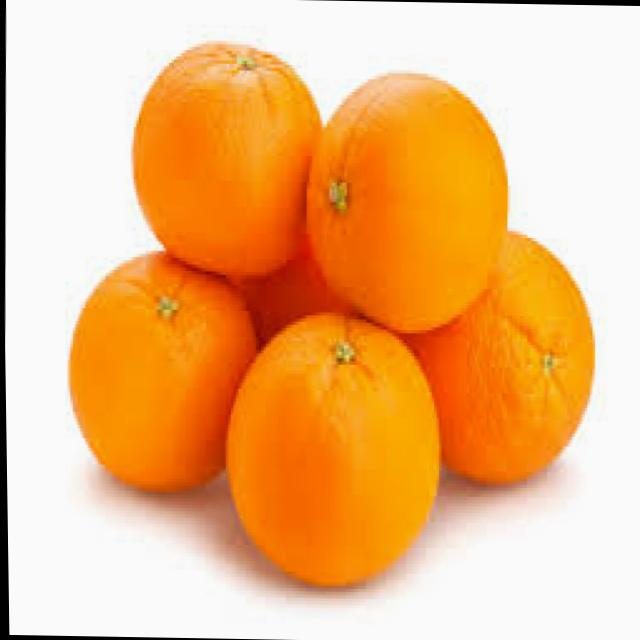orange: (222, 309, 441, 586), (303, 71, 504, 330), (406, 228, 596, 485), (63, 248, 256, 492), (130, 40, 322, 278)
